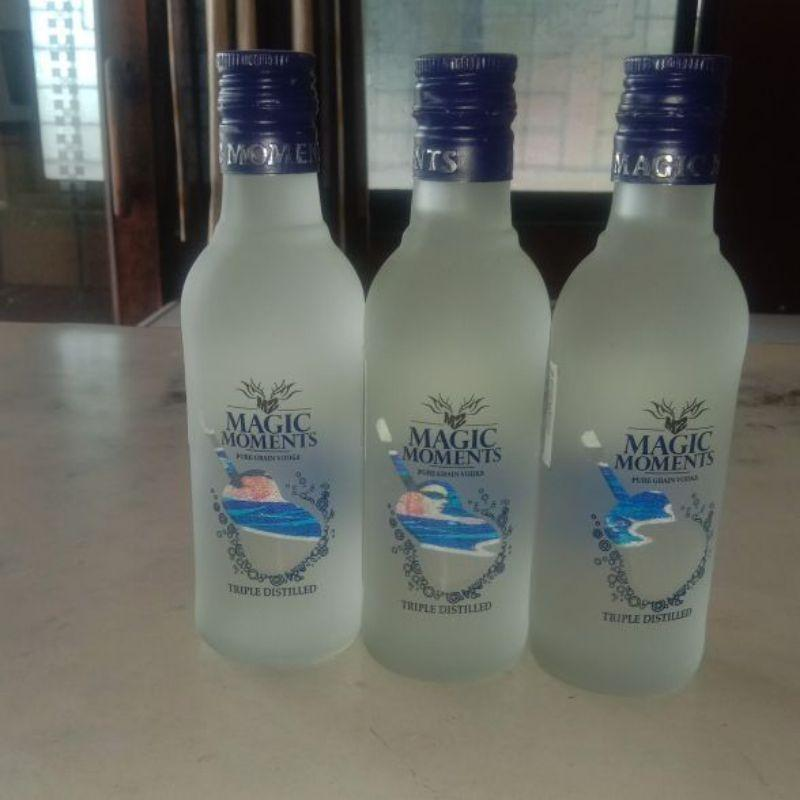bottle-glass: (533, 46, 752, 701), (359, 48, 552, 681), (176, 43, 367, 671)
